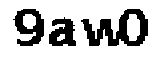0: (121, 4, 151, 51)
9: (11, 7, 45, 48)
a: (45, 16, 79, 50)
w: (79, 14, 121, 51)
